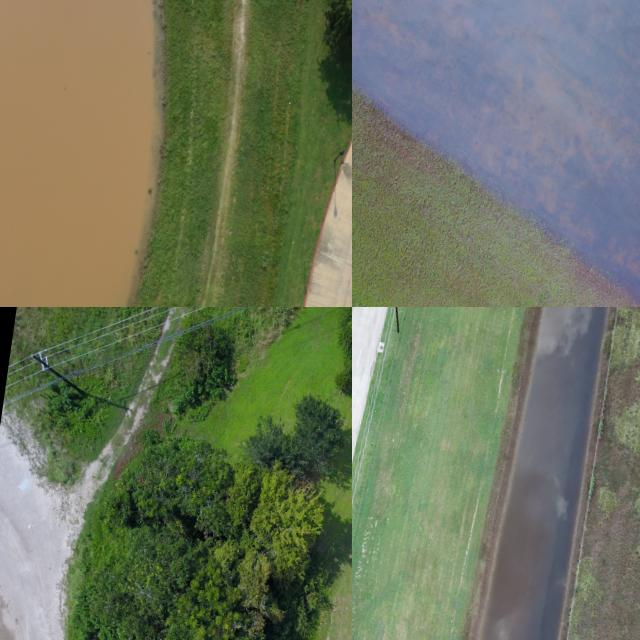fire: (352, 0, 640, 296), (0, 0, 161, 307), (480, 307, 608, 640)
